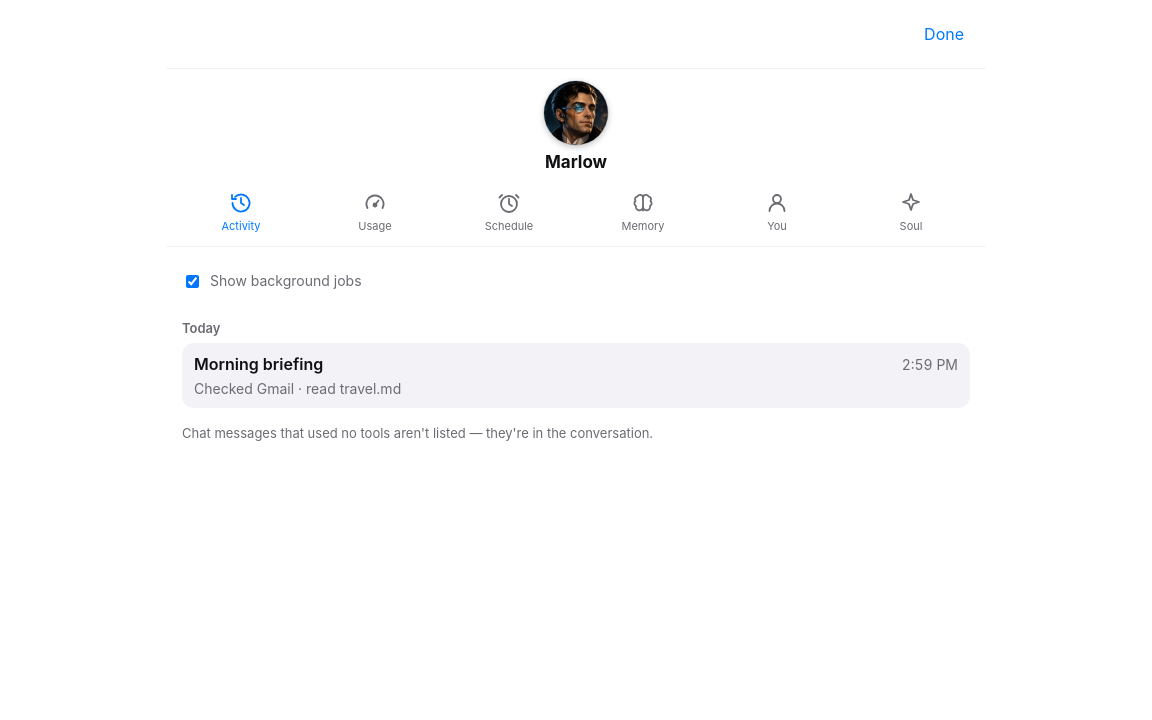
activity view › expands a row to show detail lines and duration
The image size is (1152, 720).
Check: the text "Took 14s" is not shown
Click the button "Morning briefing".
click(259, 364)  # box [182,343,970,408]
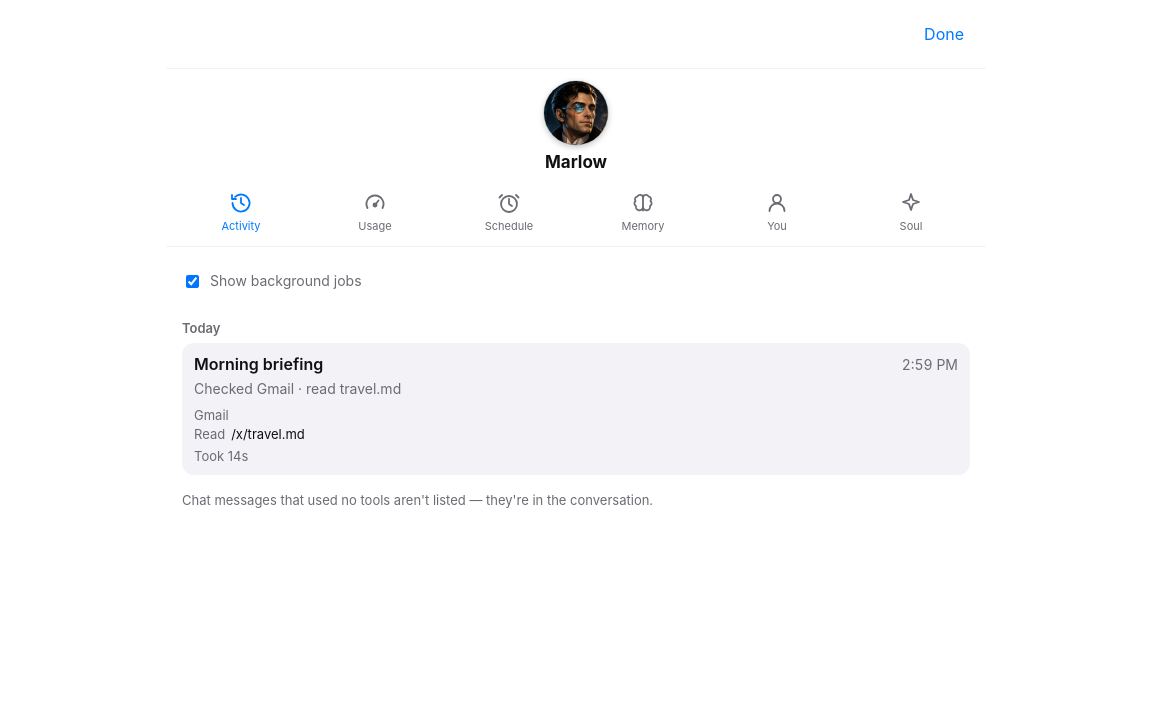
Check: the text "Took 14s" is shown, box [194,448,248,464]
Check: the text "/x/travel.md" is shown, box [231,424,305,443]
